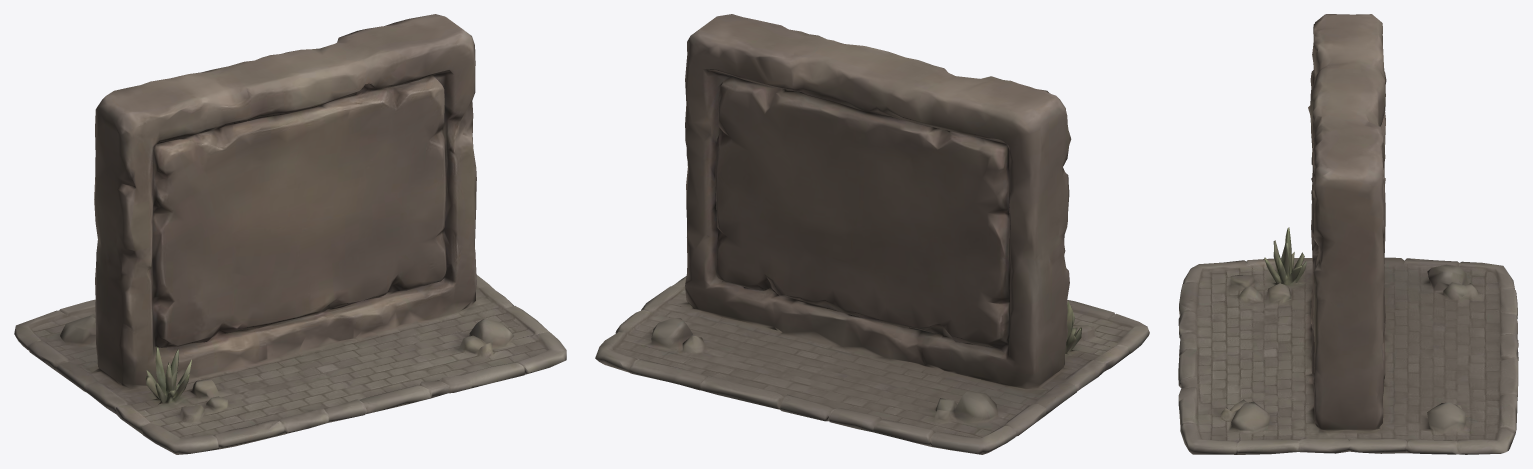
The model's file is monument_plaque.glb.
3 views of the same model, side by side, from view 1: azimuth 30°, elevation 25°; view 2: azimuth 150°, elevation 25°; view 3: azimuth 270°, elevation 25° (orthographic). The views are drawn at different scales.
Parts seen in each view (by area): view 1: tripo_node_951b59f8-4f46-404e-a115-441a288ef11c; view 2: tripo_node_951b59f8-4f46-404e-a115-441a288ef11c; view 3: tripo_node_951b59f8-4f46-404e-a115-441a288ef11c.
Part boxes in pixels (x1=…): tripo_node_951b59f8-4f46-404e-a115-441a288ef11c: x1=14, y1=14, x2=566, y2=454; tripo_node_951b59f8-4f46-404e-a115-441a288ef11c: x1=595, y1=14, x2=1149, y2=454; tripo_node_951b59f8-4f46-404e-a115-441a288ef11c: x1=1178, y1=14, x2=1518, y2=454.
Bounding box in the file's own units: 1 × 0.6689 × 0.7582.
1 material, 1 textured.
